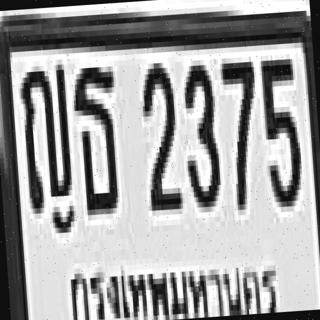A13: (17, 56, 72, 212)
A24: (69, 61, 120, 210)
N02: (137, 57, 179, 206)
N03: (178, 59, 220, 203)
N05: (258, 54, 302, 202)
N07: (220, 56, 261, 205)
P04: (66, 243, 282, 320)
